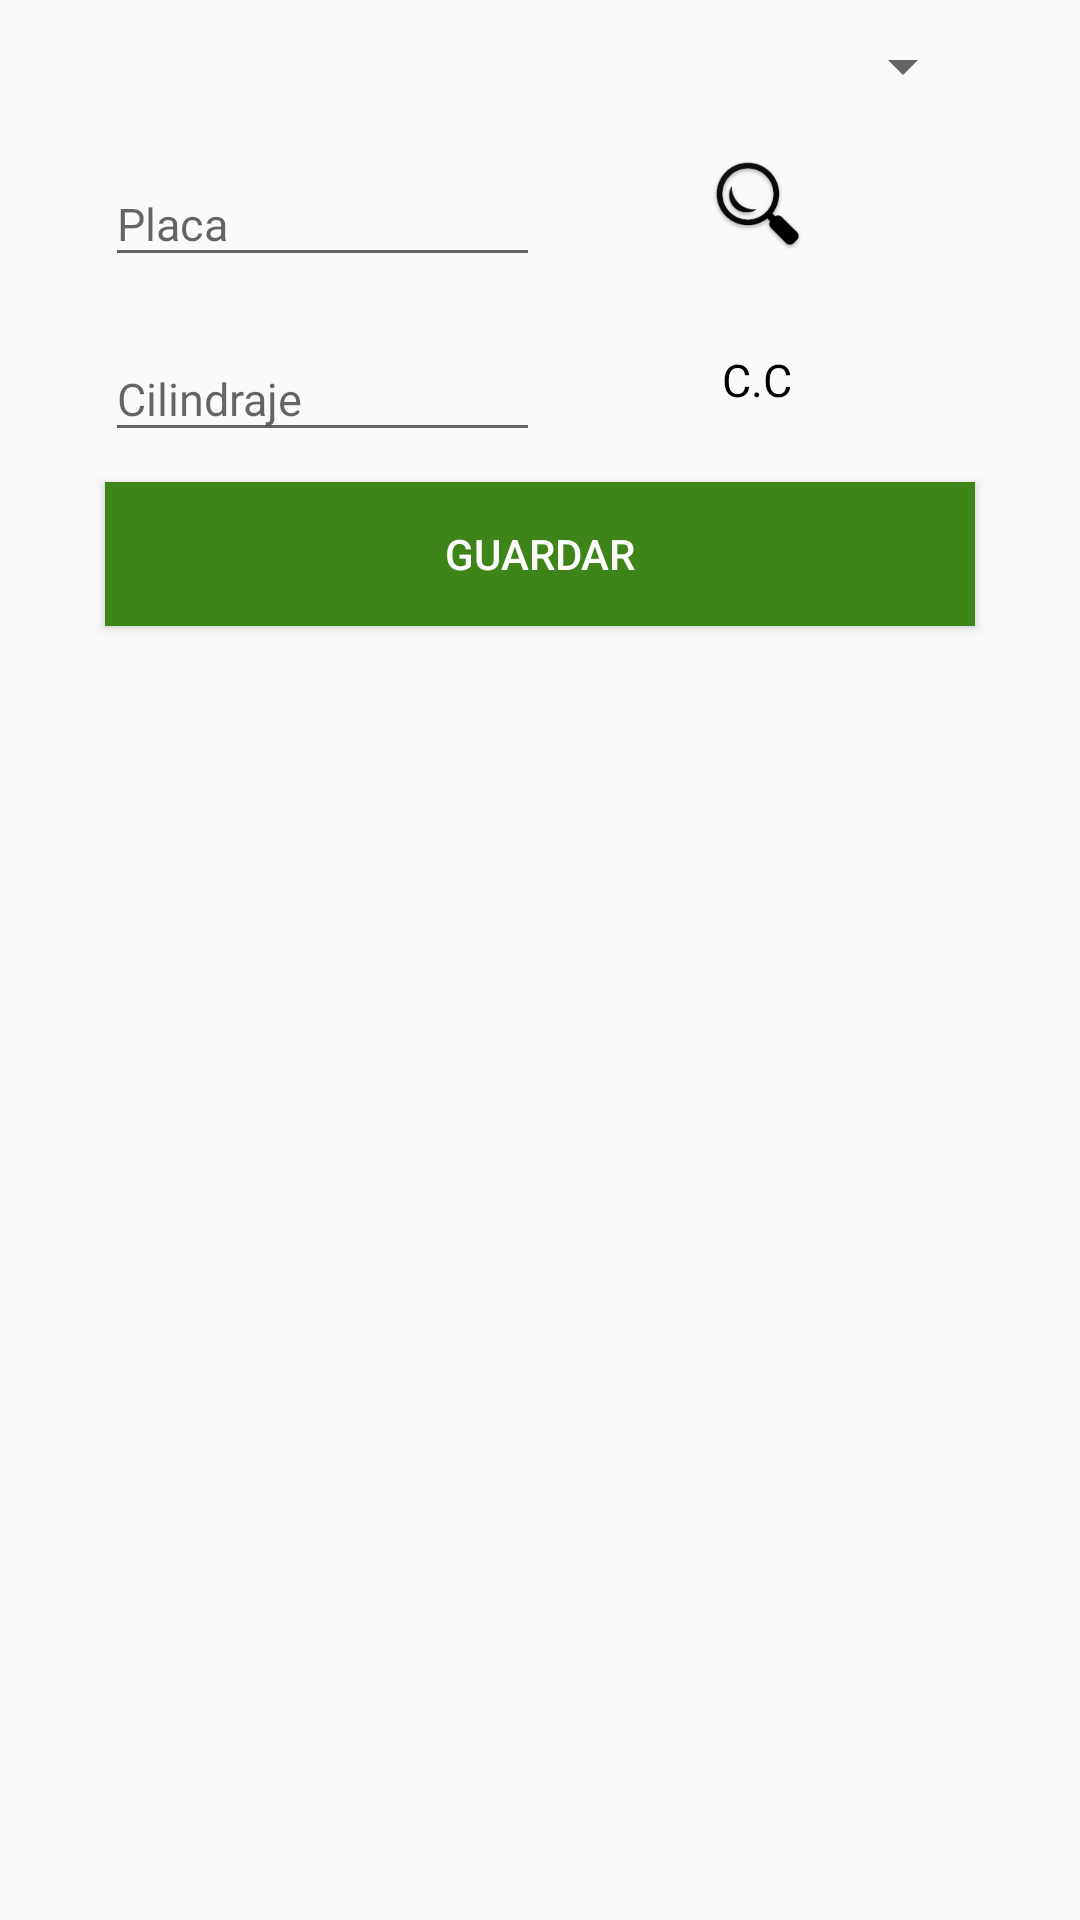

Named icons in this screenshot (1080 x 1920) and their bounding boxes, (x1, y1, x2, y2):
search: (716, 162, 799, 247)
